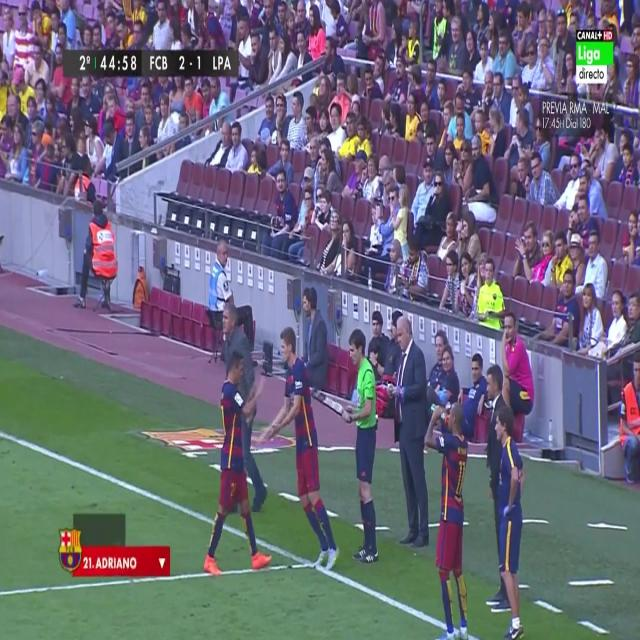Player: (260, 326, 340, 574), (202, 351, 270, 575), (424, 403, 471, 640)
Referee: (340, 333, 380, 567)
